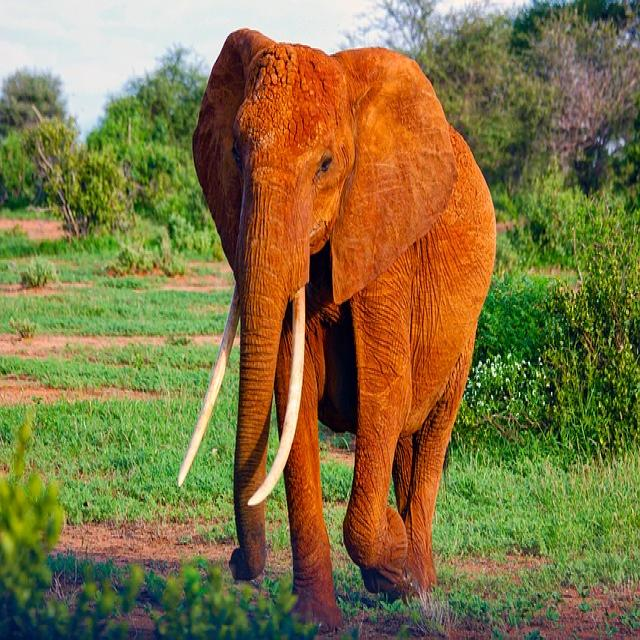elephant: (194, 30, 494, 629)
